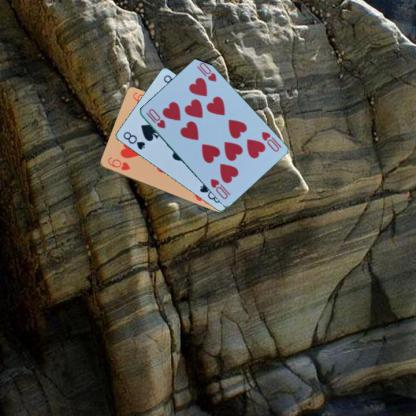10h: (144, 106, 166, 130), (259, 129, 280, 153)
6h: (105, 154, 131, 172)
8s: (120, 129, 146, 151)
